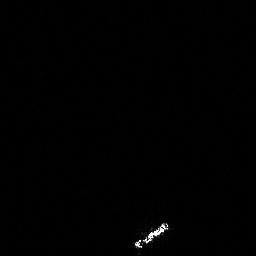ship: (131, 219, 171, 250)
